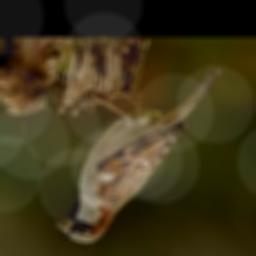Sparrow: (56, 66, 222, 243)
